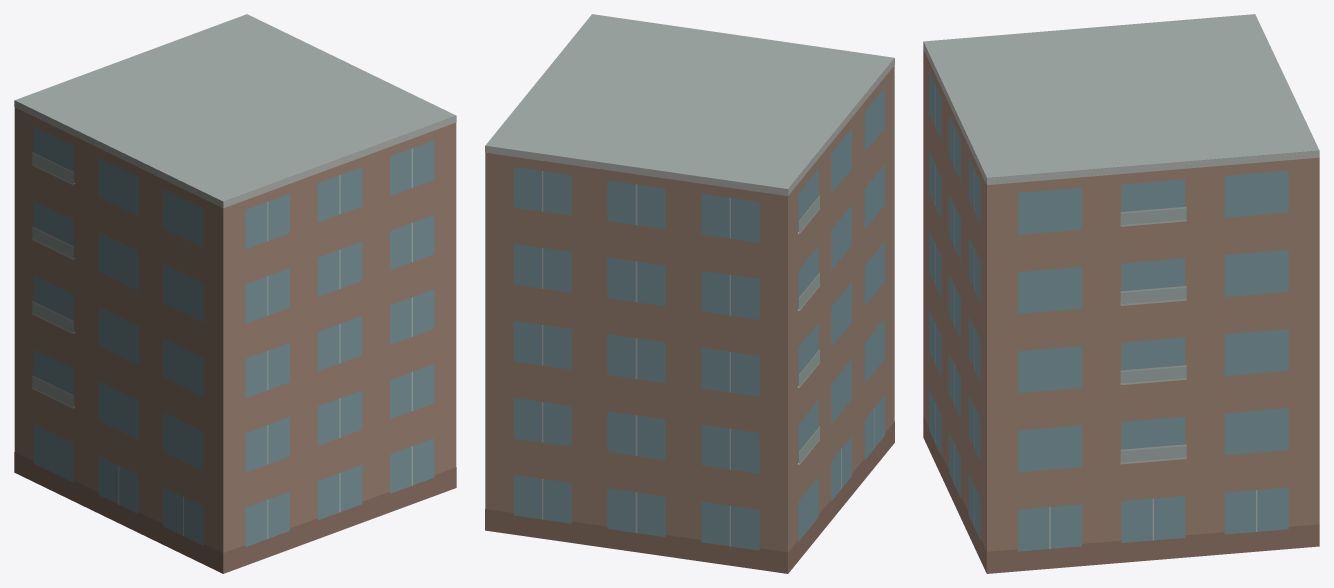
Rendered from survey-upis-32876910.glb.
3 views of the same model, side by side, from view 1: azimuth 30°, elevation 25°; view 2: azimuth 150°, elevation 25°; view 3: azimuth 270°, elevation 25° (orthographic). The views are drawn at different scales.
Visible parts, largest first — view 1: survey-upis-32876910.tmp; view 2: survey-upis-32876910.tmp; view 3: survey-upis-32876910.tmp.
Boxes of the visible parts, box(x1,y1,x2,y2) form: survey-upis-32876910.tmp: box(14, 14, 456, 573); survey-upis-32876910.tmp: box(485, 14, 894, 573); survey-upis-32876910.tmp: box(923, 14, 1319, 573).
Bounding box in the file's own units: 11.81 × 13.3 × 12.07.
